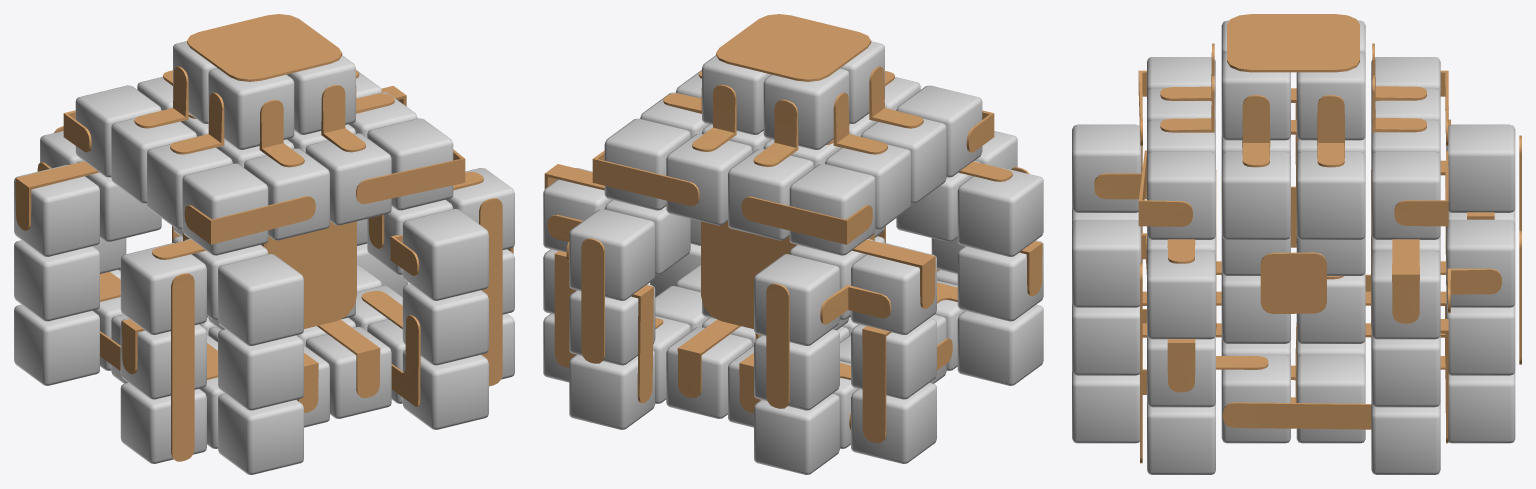
The model's file is level_123.fbx.
3 views of the same model, side by side, from view 1: azimuth 30°, elevation 25°; view 2: azimuth 150°, elevation 25°; view 3: azimuth 270°, elevation 25° (orthographic). The views are drawn at different scales.
Parts seen in each view (by area): view 1: Link, Cube_L1_44, Cube_L1_34, Link_2, Cube_L1_46, Cube_L1_12, Cube_L1_16, Cube_L1_43, Cube_L1_17, Cube_L1_35, Cube_L1_47, Cube_L1_33 (+52 smaller); view 2: Link, Cube_L1_47, Link_1, Cube_L1_45, Cube_L1_9, Cube_L1_4, Cube_L1_11, Cube_L1_39, Cube_L1_3, Cube_L1_14, Cube_L1_16, Cube_L1_5 (+52 smaller); view 3: Link, Cube_L1_34, Cube_L1_11, Cube_L1_32, Cube_L1_22, Cube_L1_24, Cube_L1_27, Cube_L1_44, Cube_L1_37, Cube_L1_4, Cube_L1_1, Cube_L1 (+46 smaller).
Part boxes in pixels (x1=…): Link: x1=187, y1=14, x2=342, y2=81; Cube_L1_44: x1=218, y1=254, x2=303, y2=345; Cube_L1_34: x1=402, y1=209, x2=488, y2=300; Link_2: x1=266, y1=221, x2=356, y2=328; Cube_L1_46: x1=218, y1=329, x2=303, y2=410; Cube_L1_12: x1=14, y1=240, x2=99, y2=321; Cube_L1_16: x1=14, y1=304, x2=99, y2=385; Cube_L1_43: x1=218, y1=393, x2=303, y2=474; Cube_L1_17: x1=14, y1=165, x2=99, y2=256; Cube_L1_35: x1=402, y1=284, x2=488, y2=365; Cube_L1_47: x1=120, y1=243, x2=206, y2=334; Cube_L1_33: x1=402, y1=350, x2=488, y2=429; Link: x1=716, y1=14, x2=871, y2=81; Cube_L1_47: x1=957, y1=165, x2=1043, y2=256; Link_1: x1=701, y1=221, x2=796, y2=328; Cube_L1_45: x1=957, y1=304, x2=1043, y2=385; Cube_L1_9: x1=754, y1=394, x2=839, y2=474; Cube_L1_4: x1=569, y1=209, x2=655, y2=300; Cube_L1_11: x1=754, y1=254, x2=839, y2=345; Cube_L1_39: x1=957, y1=240, x2=1043, y2=321; Cube_L1_3: x1=569, y1=350, x2=655, y2=429; Cube_L1_14: x1=789, y1=163, x2=875, y2=255; Cube_L1_16: x1=851, y1=382, x2=936, y2=463; Cube_L1_5: x1=666, y1=133, x2=752, y2=225; Link: x1=1227, y1=14, x2=1359, y2=72; Cube_L1_34: x1=1072, y1=219, x2=1141, y2=307; Cube_L1_11: x1=1446, y1=124, x2=1515, y2=212; Cube_L1_32: x1=1147, y1=251, x2=1215, y2=339; Cube_L1_22: x1=1296, y1=152, x2=1365, y2=239; Cube_L1_24: x1=1221, y1=152, x2=1290, y2=239; Cube_L1_27: x1=1371, y1=152, x2=1440, y2=239; Cube_L1_44: x1=1072, y1=124, x2=1141, y2=212; Cube_L1_37: x1=1147, y1=152, x2=1215, y2=239; Cube_L1_4: x1=1446, y1=219, x2=1515, y2=307; Cube_L1_1: x1=1371, y1=335, x2=1440, y2=407; Cube_L1: x1=1371, y1=403, x2=1440, y2=474.
Size of the model in its own units: 13.74 by 11.48 by 13.45.
